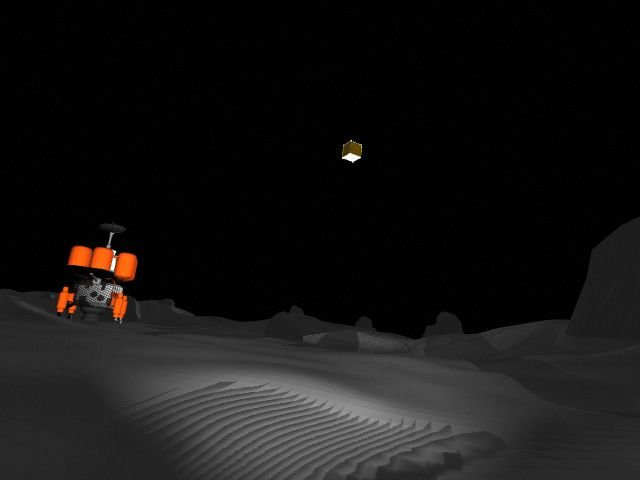homebase: (53, 218, 141, 327)
